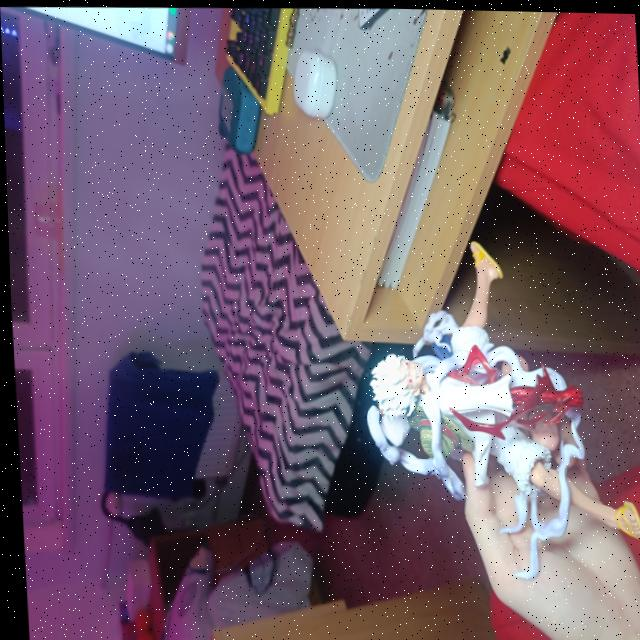luffy: (351, 234, 597, 550)
